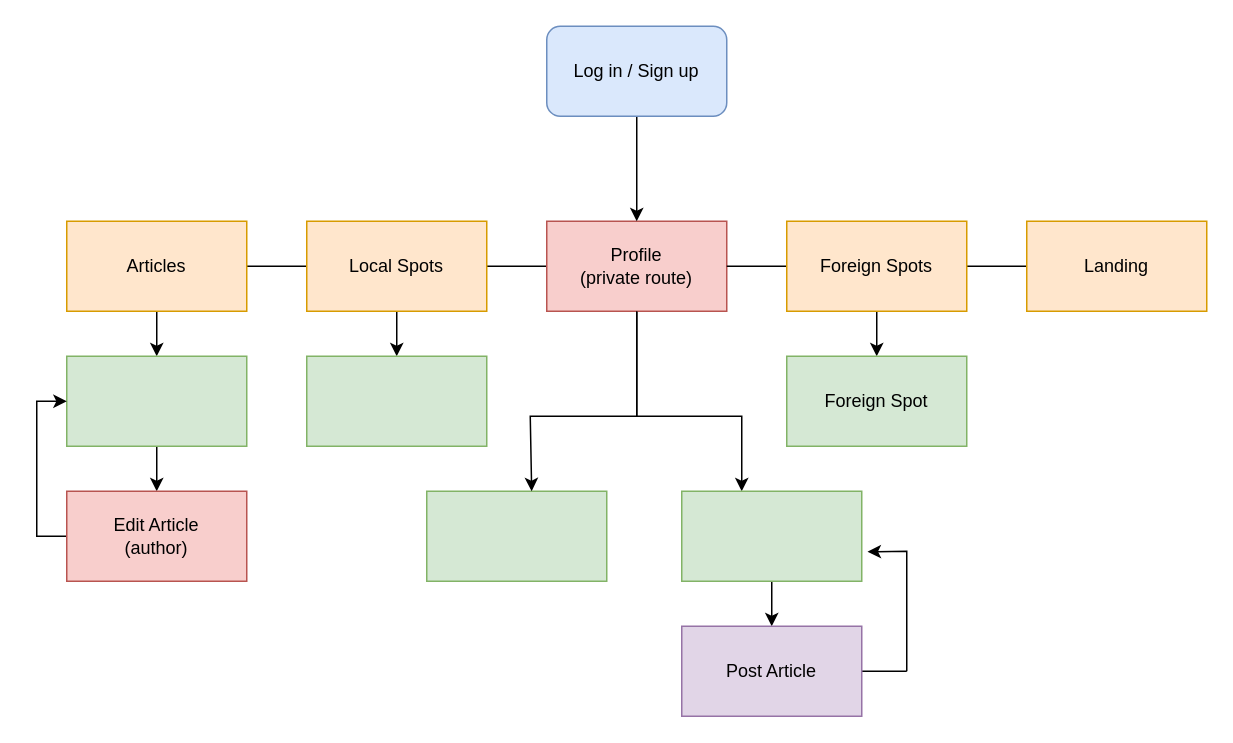
Image size: 1233x743. Some labels were removed from this diagram. The shapes that lost their labels are listed below. From the top down, each one's centre as x and y in pixels, then its label:
At pixel 156 400: "Article".
At pixel 396 400: "Local Spot".
At pixel 516 535: "My Collections".
At pixel 771 535: "My Articles".
